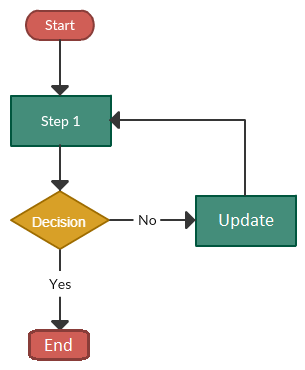arrow: (107, 109, 248, 197), (50, 247, 71, 332), (107, 210, 196, 230), (50, 36, 70, 97), (50, 145, 71, 193)
decision: (7, 189, 111, 249)
process: (8, 93, 113, 150), (193, 193, 299, 248), (27, 328, 91, 362)
terminator: (24, 8, 96, 42)
text: (217, 210, 275, 231), (30, 215, 86, 229), (40, 114, 82, 131), (43, 18, 75, 33), (43, 337, 73, 353), (47, 277, 73, 291), (138, 214, 157, 227)
